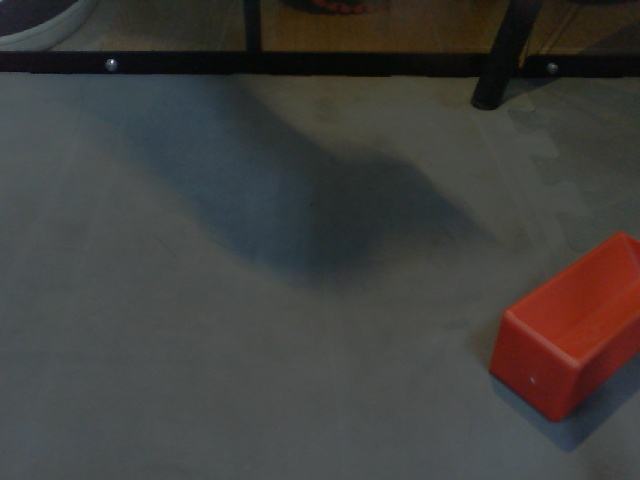RedSample: (489, 228, 640, 425)
